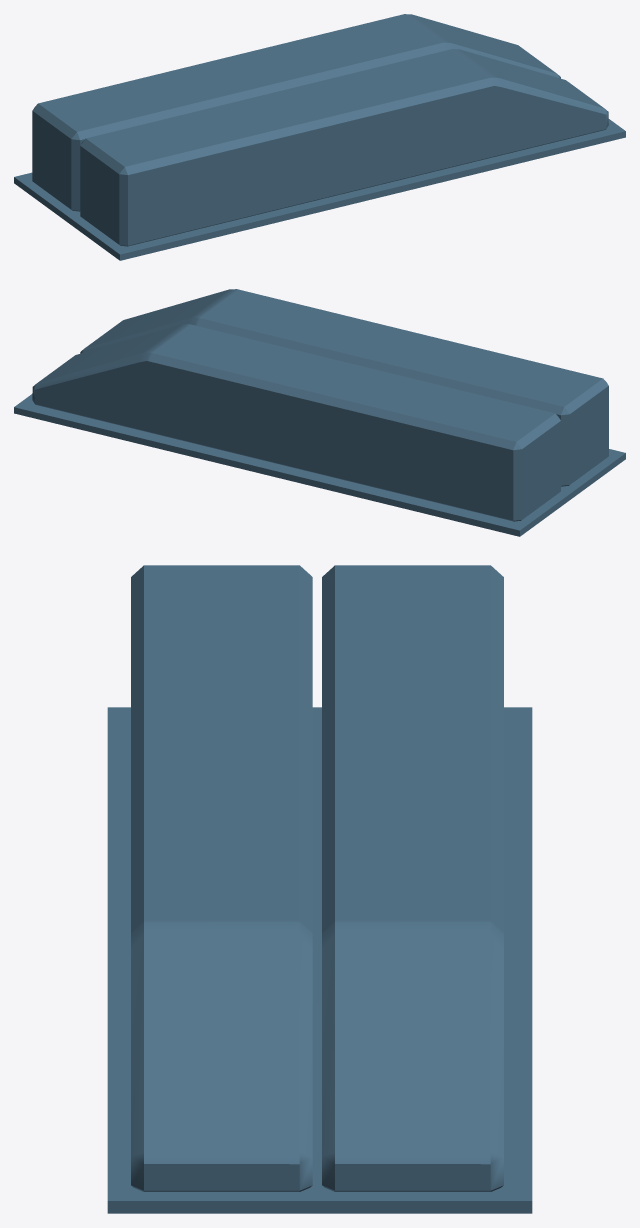
The model's file is cardScanner.fbx.
3 views of the same model, one above another, from view 1: azimuth 30°, elevation 25°; view 2: azimuth 150°, elevation 25°; view 3: azimuth 270°, elevation 25° (orthographic). The views are drawn at different scales.
Visible parts, largest first — view 1: scannerSideA1, scannerSideA, pCube1; view 2: scannerSideA, scannerSideA1, pCube1; view 3: scannerSideA, scannerSideA1, pCube1.
Boxes of the visible parts, left/top/right/bottom form: scannerSideA1: left=80, top=49, right=608, bottom=246; scannerSideA: left=32, top=14, right=560, bottom=211; pCube1: left=14, top=119, right=625, bottom=260; scannerSideA: left=32, top=324, right=560, bottom=521; scannerSideA1: left=80, top=289, right=608, bottom=486; pCube1: left=14, top=394, right=625, bottom=536; scannerSideA: left=322, top=565, right=503, bottom=1191; scannerSideA1: left=131, top=565, right=312, bottom=1191; pCube1: left=107, top=707, right=532, bottom=1213.
Size of the model in its own units: 6.42 by 1.02 by 2.33.
